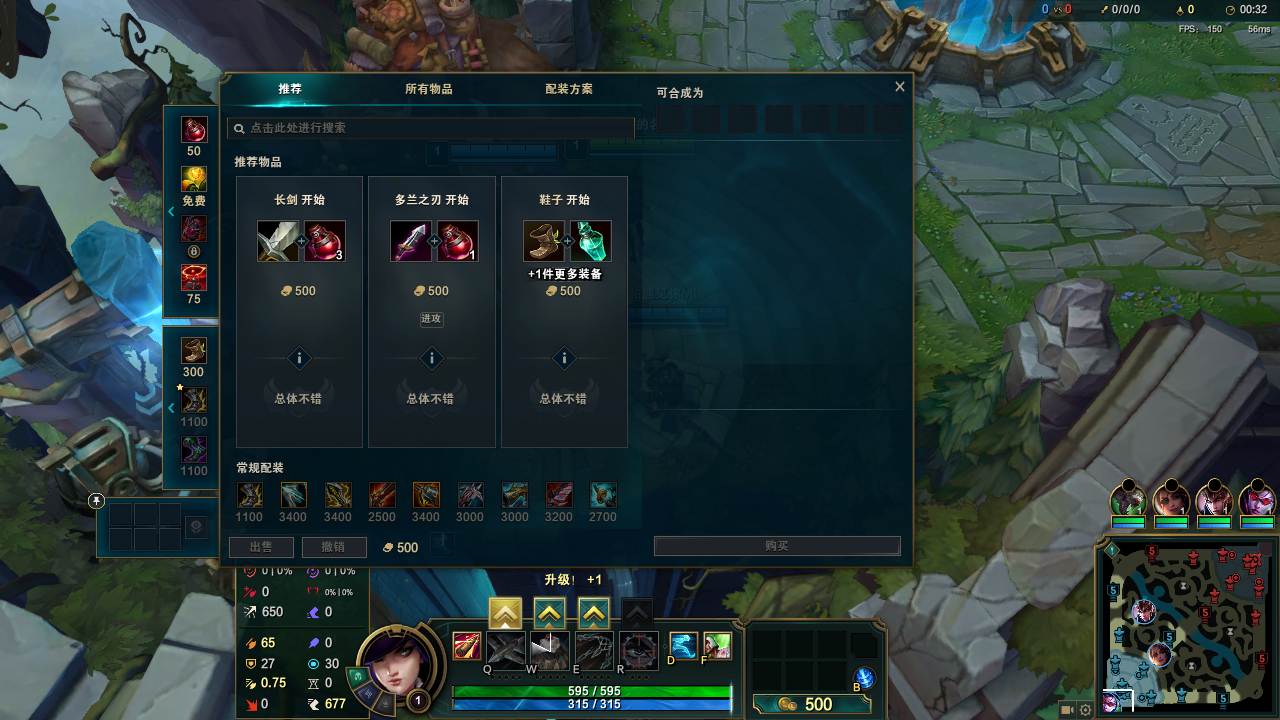GTH: (285, 345, 312, 371), (417, 350, 446, 373), (551, 348, 580, 371)
Shenji: (539, 601, 560, 625), (584, 602, 602, 628)
TJJM: (248, 78, 334, 112)
Tuijianshengji: (494, 600, 518, 624)
Yita: (1215, 687, 1231, 710)
